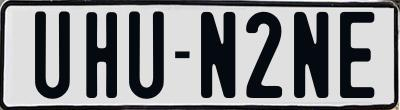2: (246, 12, 285, 101)
E: (337, 10, 376, 102)
H: (83, 12, 117, 99)
N: (291, 10, 325, 101), (198, 12, 232, 102)
U: (128, 11, 169, 103), (34, 11, 70, 104)
